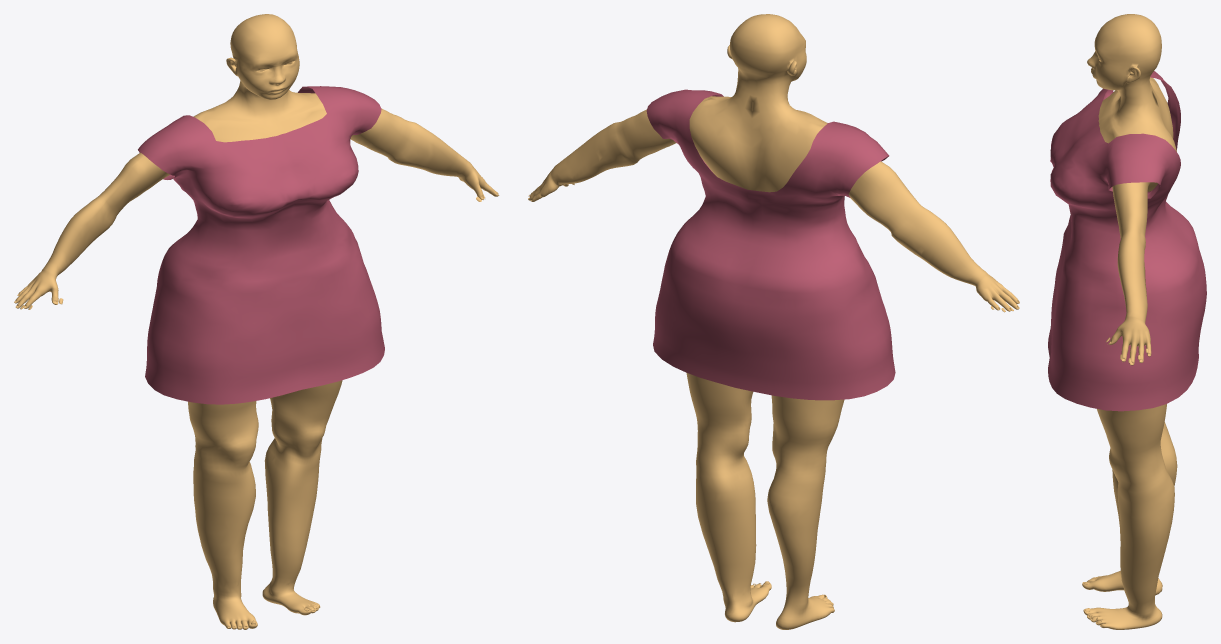
File: dress7.glb
3 views of the same model, side by side, from view 1: azimuth 30°, elevation 25°; view 2: azimuth 150°, elevation 25°; view 3: azimuth 270°, elevation 25° (orthographic).
Parts seen in each view (by area): view 1: Jennifer.F_Dress_01, Body; view 2: Body, Jennifer.F_Dress_01; view 3: Jennifer.F_Dress_01, Body.
Boxes of the visible parts, <box> form: Jennifer.F_Dress_01: <box>138,86,384,404</box>; Body: <box>14,14,499,629</box>; Body: <box>528,14,1019,629</box>; Jennifer.F_Dress_01: <box>646,89,895,400</box>; Jennifer.F_Dress_01: <box>1048,71,1206,411</box>; Body: <box>1082,14,1177,629</box>.
Bounding box in the file's own units: 1.6 × 1.88 × 0.4539.
